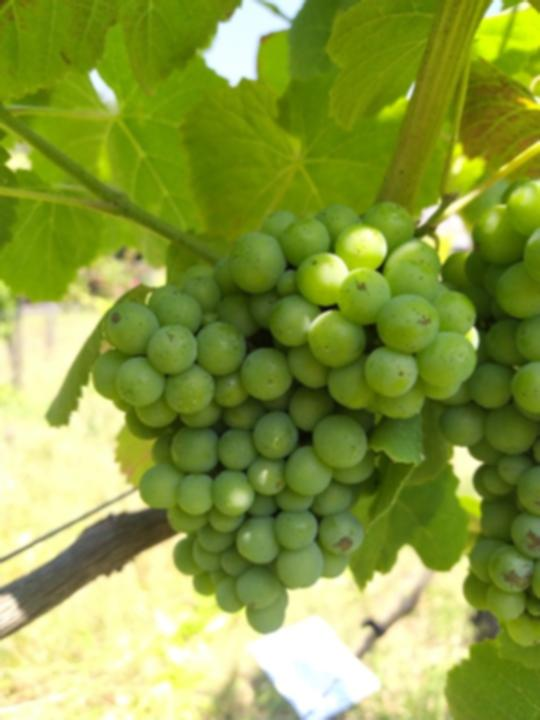grape: (90, 199, 479, 637)
